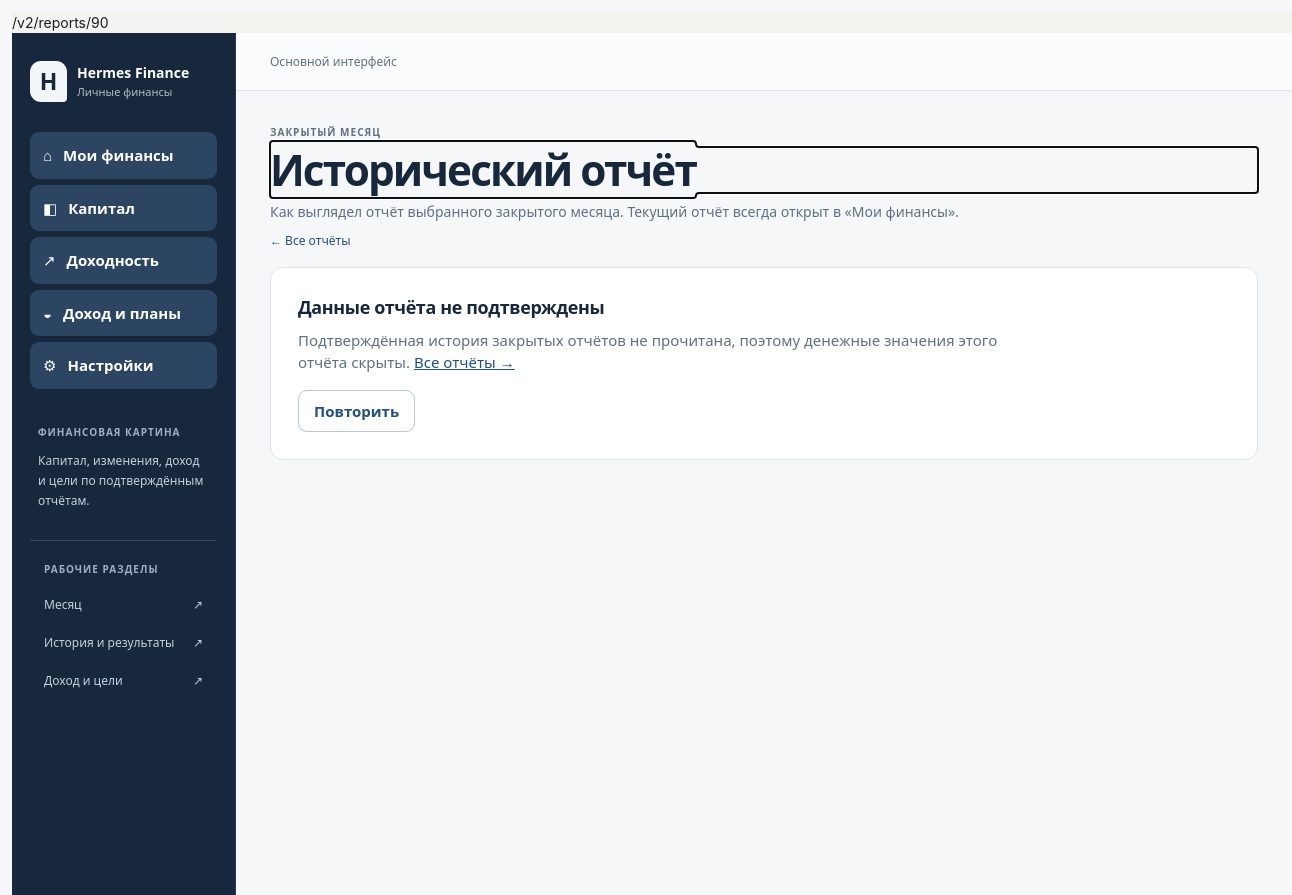
Test case: UI v2 historical report › hides money and offers a retry when the composition series fails
Expected: the heading "Данные отчёта не подтверждены" is shown, [298,295,604,319]
What coordinates should you click on to do the following:
click the button "Повторить"
I would click on:
 (357, 411)
Its box is [298,390,415,432].
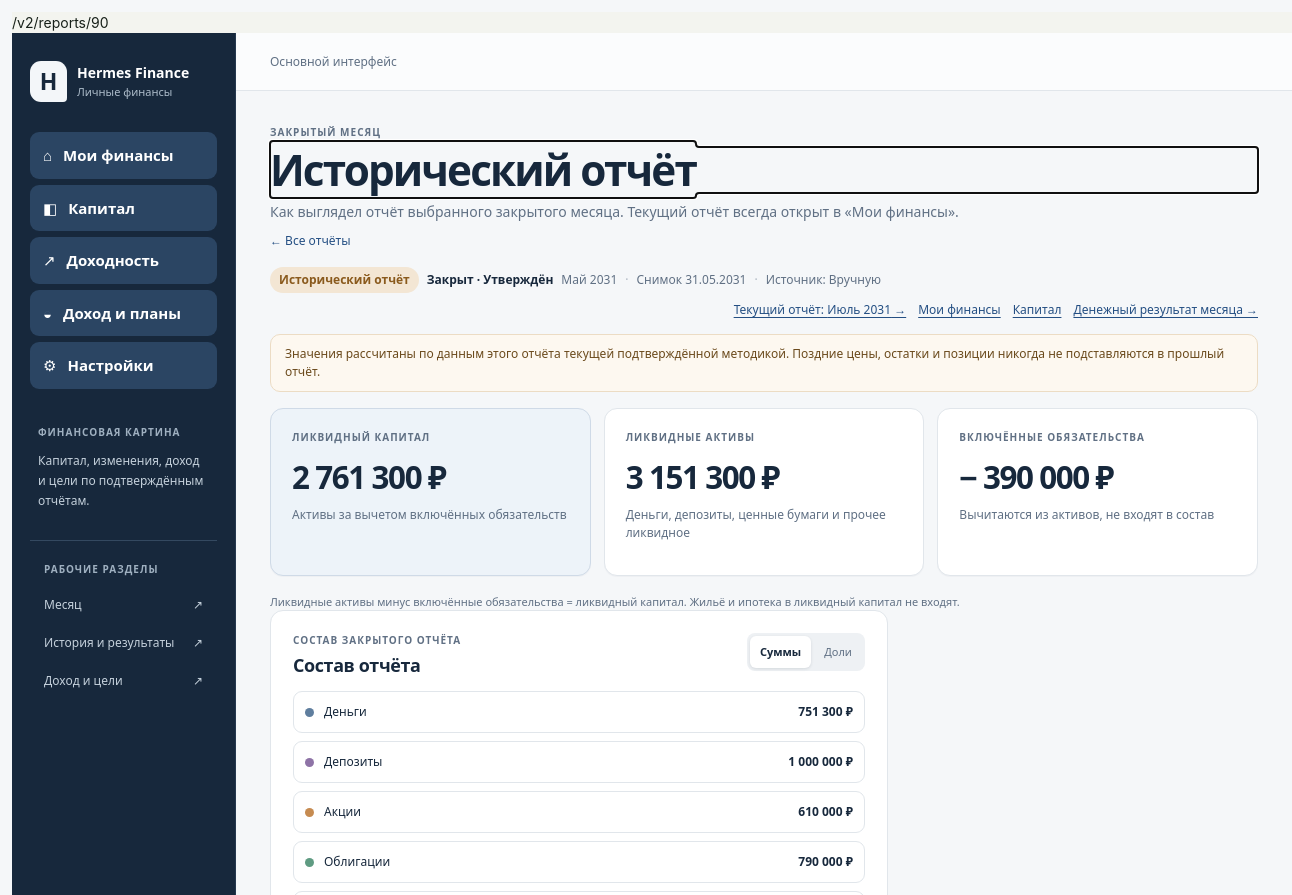
Expected: the text with test id "report-net" reads "2 761 300 ₽", [292,455,445,498]
